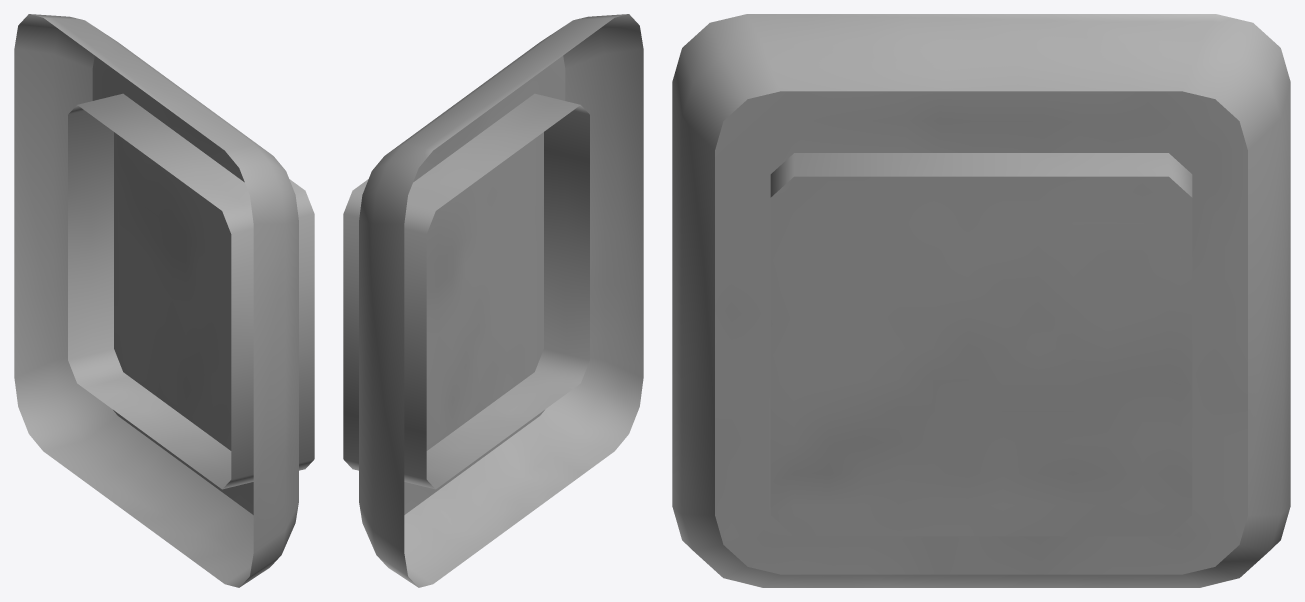
File: SM_Switch2.fbx
3 views of the same model, side by side, from view 1: azimuth 30°, elevation 25°; view 2: azimuth 150°, elevation 25°; view 3: azimuth 270°, elevation 25° (orthographic). The views are drawn at different scales.
Visible parts, largest first — view 1: SM_Switch2_LOD0; view 2: SM_Switch2_LOD0; view 3: SM_Switch2_LOD0.
Boxes of the visible parts, box(x1,y1,x2,y2) form: SM_Switch2_LOD0: box(14, 14, 314, 587); SM_Switch2_LOD0: box(343, 14, 643, 587); SM_Switch2_LOD0: box(672, 14, 1290, 587).
Size of the model in its own units: 2.39 by 10 by 10.
